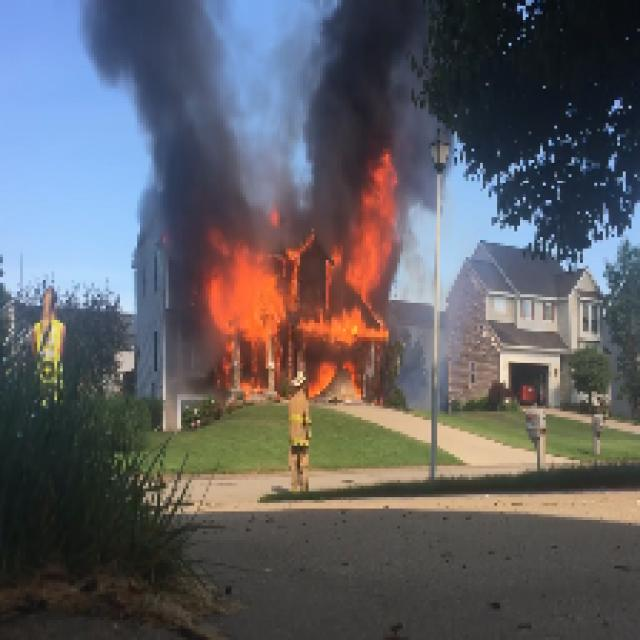fire: (210, 244, 378, 354)
smoke: (112, 5, 247, 235), (332, 12, 401, 136), (309, 144, 362, 223)
